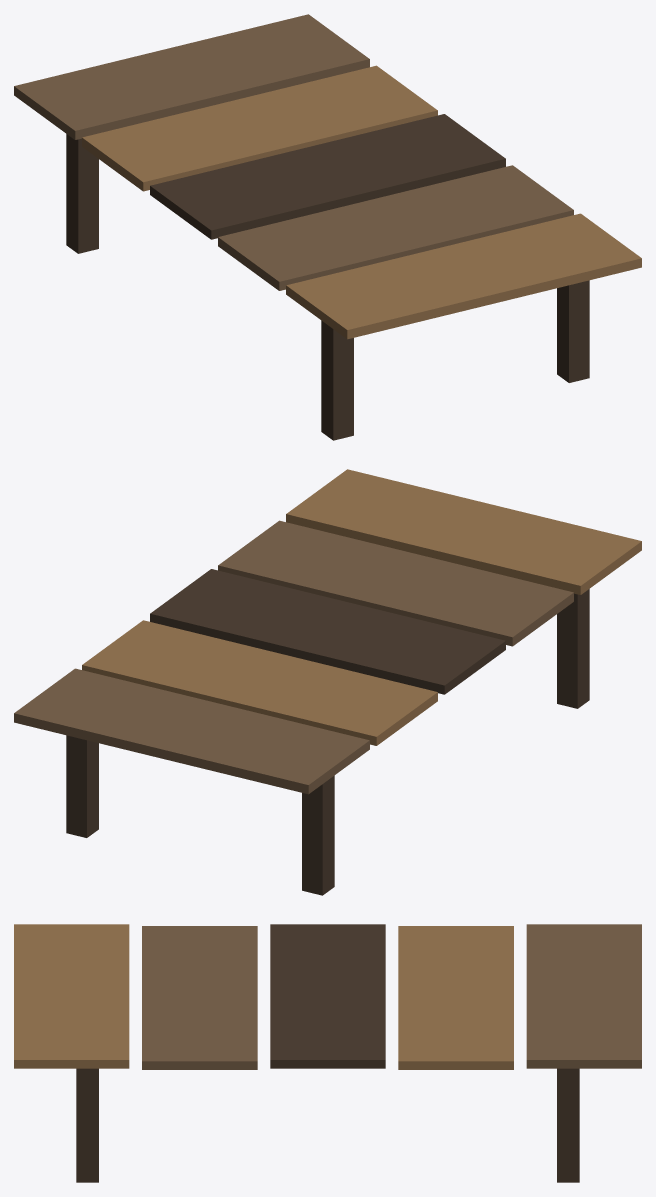
Rendered from boardwalk_section.glb.
3 views of the same model, one above another, from view 1: azimuth 30°, elevation 25°; view 2: azimuth 150°, elevation 25°; view 3: azimuth 270°, elevation 25° (orthographic). The views are drawn at different scales.
Parts seen in each view (by area): view 1: boardwalk_section; view 2: boardwalk_section; view 3: boardwalk_section.
Part boxes in pixels (bbox=[...]): boardwalk_section: bbox=[14, 14, 641, 440]; boardwalk_section: bbox=[14, 469, 641, 895]; boardwalk_section: bbox=[14, 924, 641, 1182].
Size of what is drawn, in the model's own units: 2 by 0.905 by 3.92.
1 material, 1 textured.
